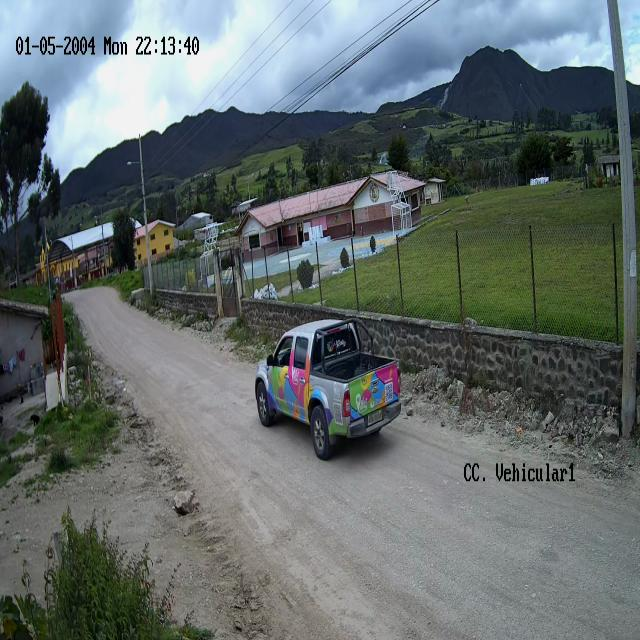CMT: (255, 319, 403, 462)
